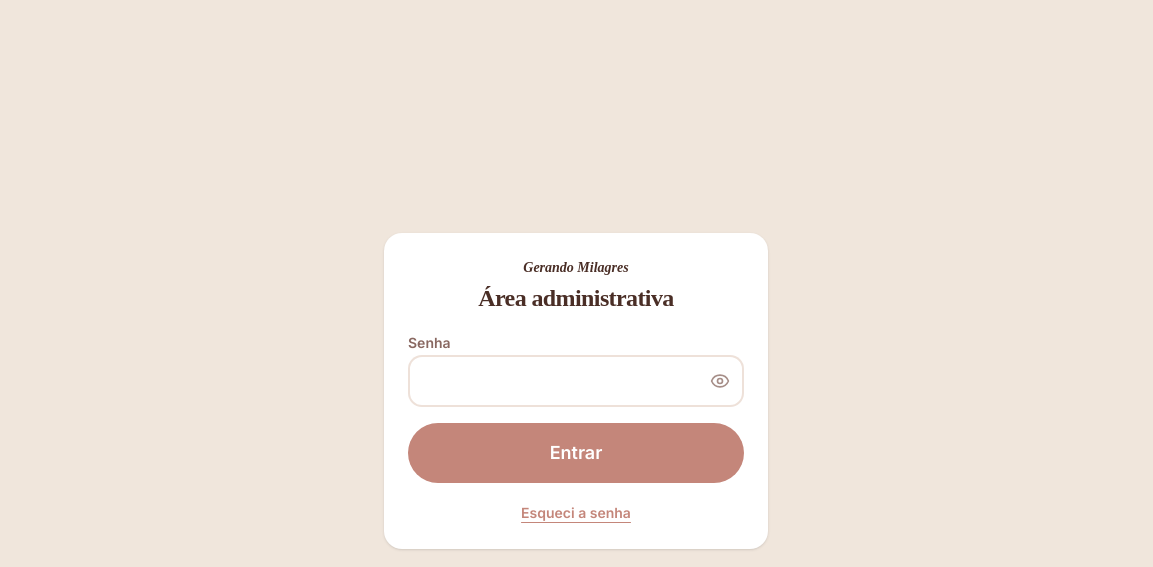
Test: AdminPage › após login lista, filtra, expande respostas e sai
Step 1. Type "certa" into the password field labelled "Senha" → (576, 381), box [408,355,744,407]
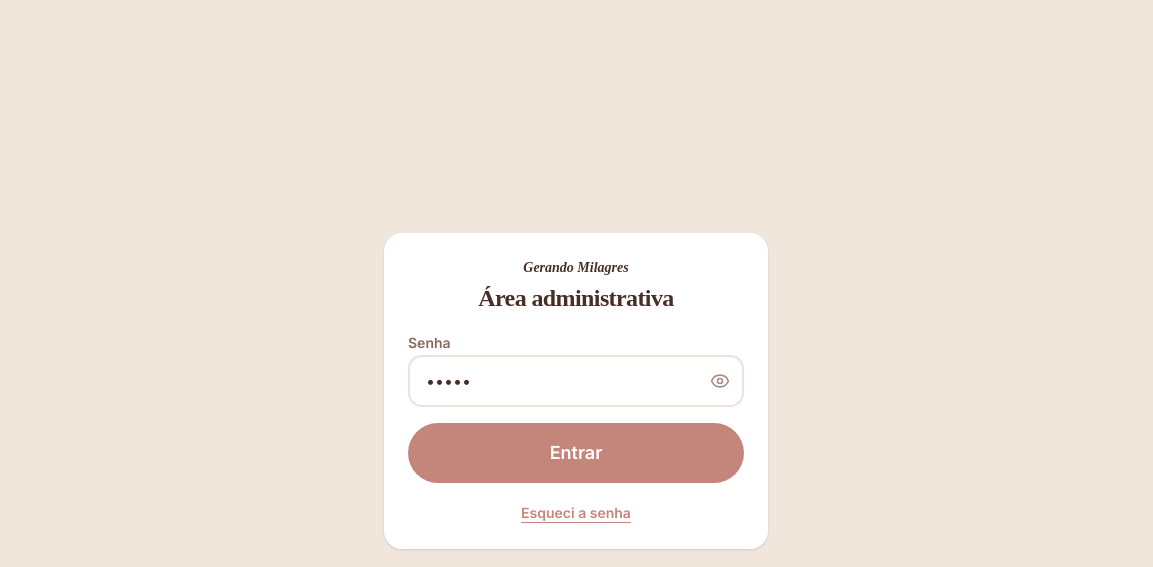
Step 2. Click the button "Entrar" → (576, 453), box [408,423,744,483]
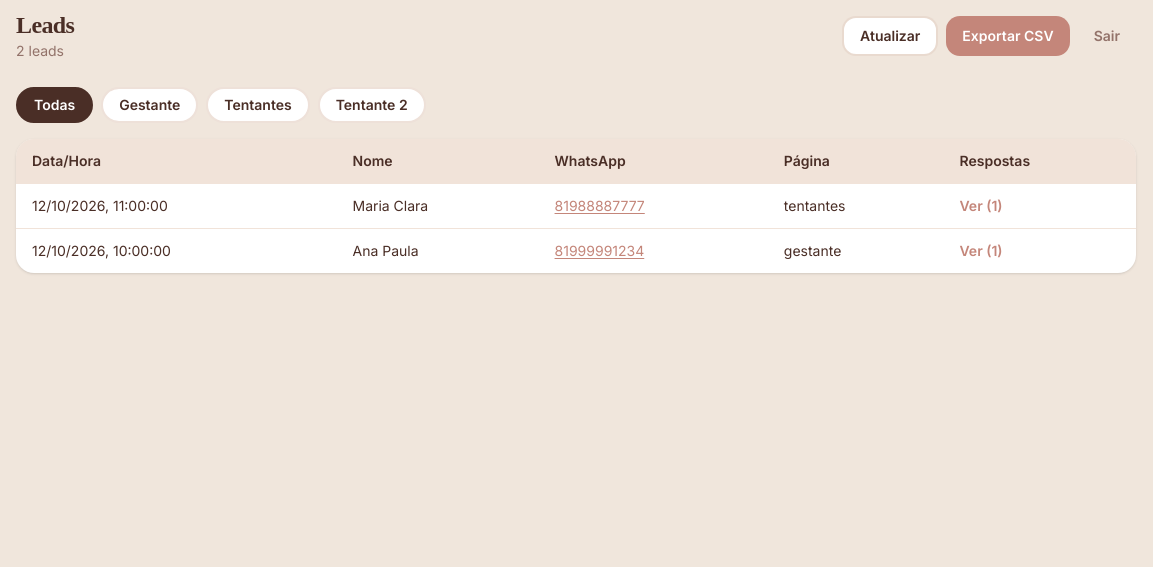
Expected: the text "Maria Clara" is shown, [336,183,539,228]
Expected: the text "Ana Paula" is shown, [336,228,539,273]
Expected: the button "Exportar CSV" is enabled, [946,16,1070,56]
Step 3. Click the button "Gestante" → (150, 105), box [101,87,198,123]
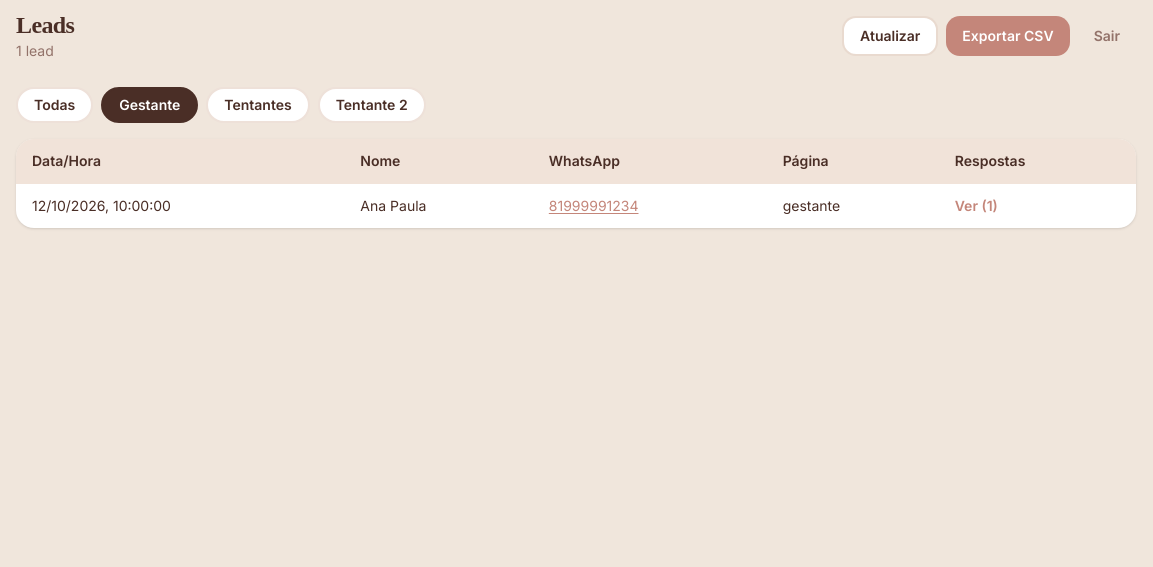
Expected: the text "Ana Paula" is shown, [344,183,533,228]
Expected: the text "Maria Clara" is gone
Step 4. Click the button "Ver (1)" → (976, 206), box [955,196,998,216]
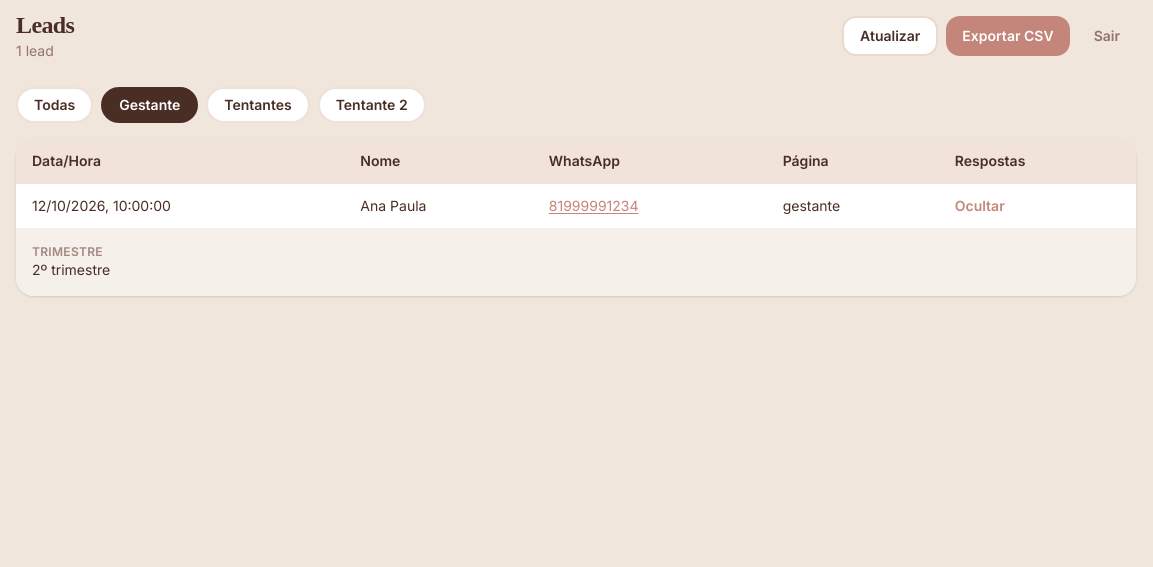
Expected: the text "2º trimestre" is shown, [32,261,110,278]
Step 5. Click the button "Sair" → (1107, 36), box [1078,16,1136,56]
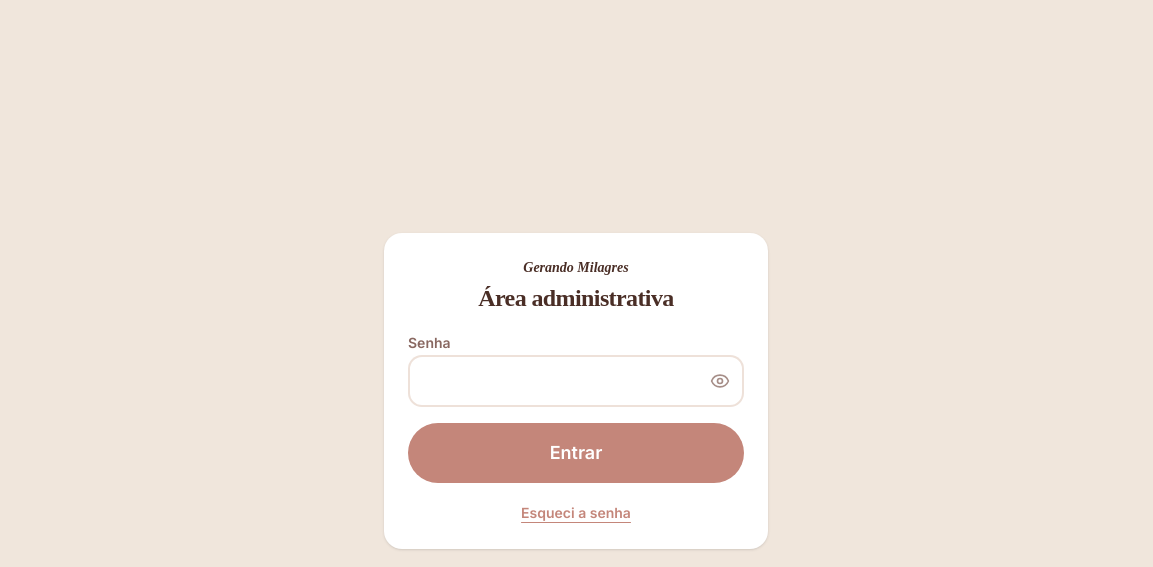
Expected: the password field labelled "Senha" is shown, [408,355,744,407]
